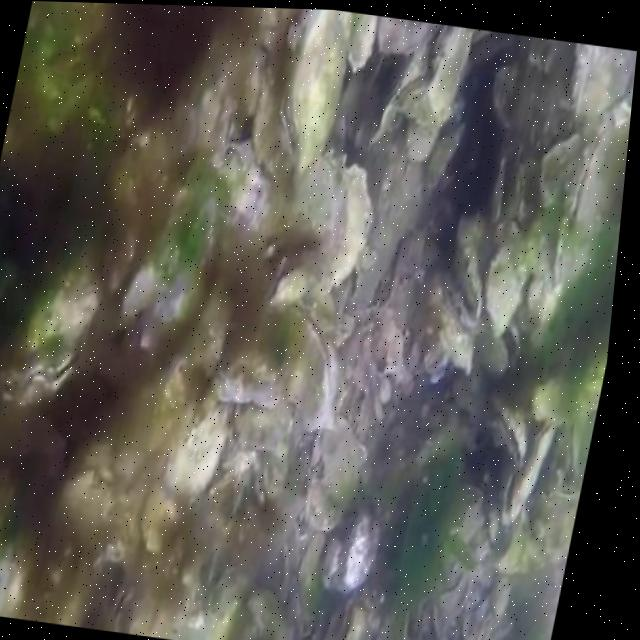Oyster-Closed: (0, 249, 106, 409), (552, 114, 631, 284), (280, 301, 339, 429), (305, 415, 366, 529), (501, 423, 554, 528), (170, 76, 237, 159), (432, 272, 478, 374), (214, 344, 281, 414), (485, 400, 526, 474), (535, 484, 580, 522), (347, 12, 377, 68), (106, 584, 136, 634), (559, 424, 581, 477), (502, 167, 523, 222), (338, 603, 364, 640)
Oyster-Indeterminate: (282, 9, 348, 184), (297, 152, 370, 297), (533, 332, 610, 424), (166, 404, 230, 496), (572, 43, 637, 118), (481, 238, 531, 334), (451, 212, 493, 316), (337, 512, 381, 594), (538, 136, 582, 204), (423, 124, 463, 196), (236, 403, 290, 450), (377, 16, 439, 52), (493, 65, 519, 122)
Oyster-Open: (477, 325, 519, 380)
